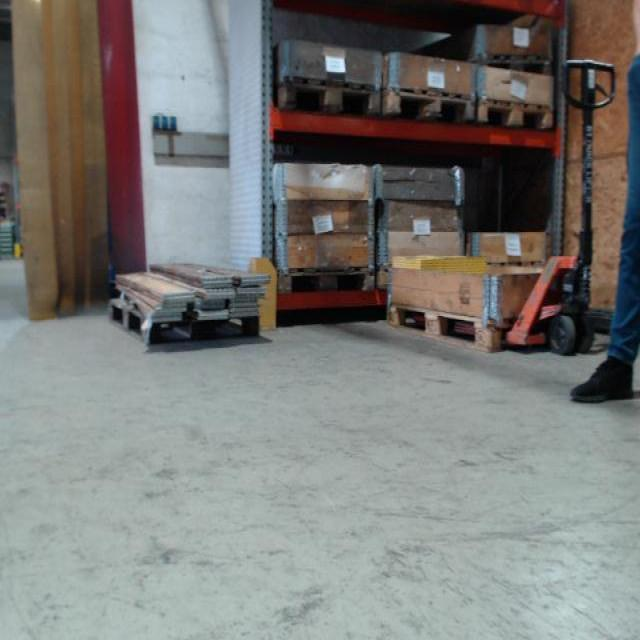pallet: (105, 295, 262, 349), (384, 301, 506, 354), (275, 76, 382, 121), (381, 85, 477, 127), (478, 97, 555, 134), (276, 269, 377, 296), (480, 53, 556, 76)
pallet_truck: (505, 55, 613, 356)
